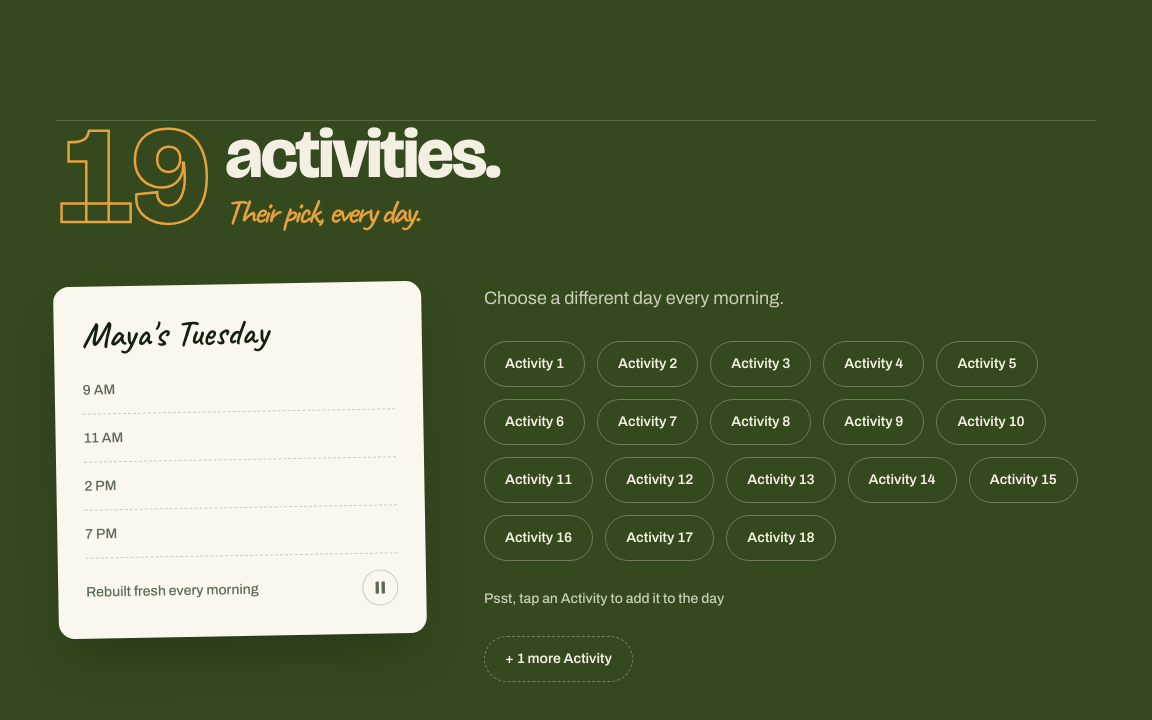
ActivitySchedule › pauses and resumes automatic schedule updates
Click the button named "Pause automatic schedule".
click(380, 587)  # box [362, 569, 398, 605]
Wait 3000 ms
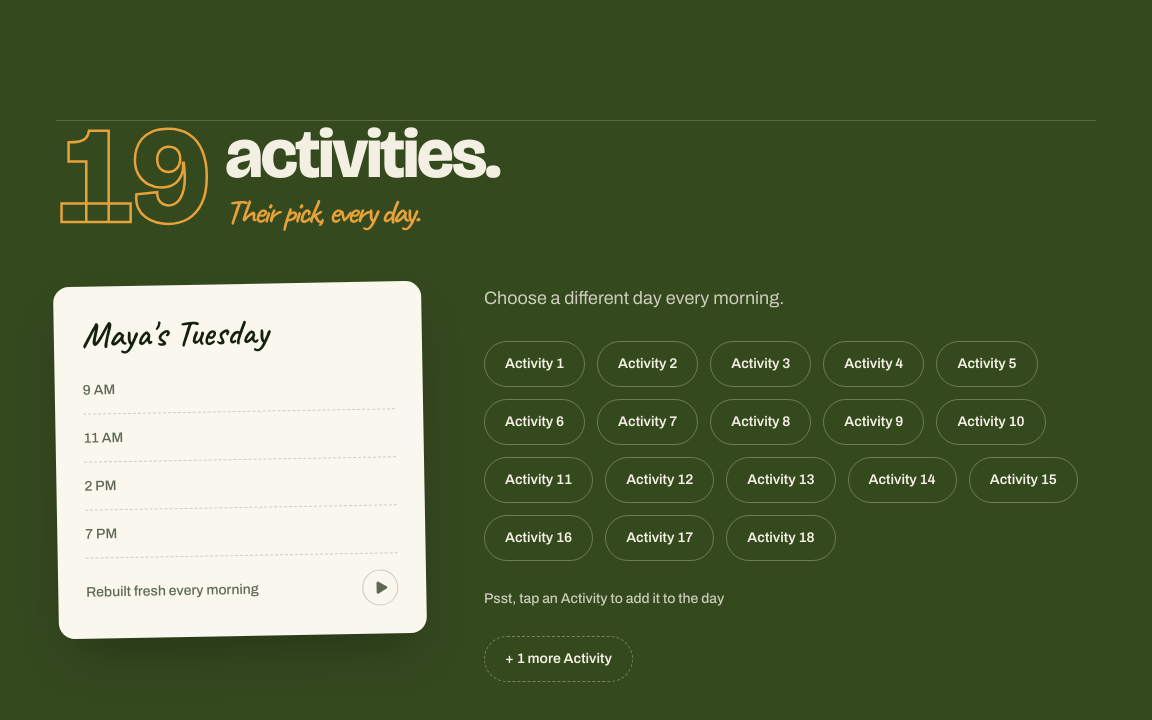
Expected: the list does not show "Activity 1", [82, 361, 398, 558]
Result: the button named "Resume automatic schedule" is pressed
Click the button named "Resume automatic schedule".
click(380, 587)  # box [362, 569, 398, 605]
Wait 1000 ms
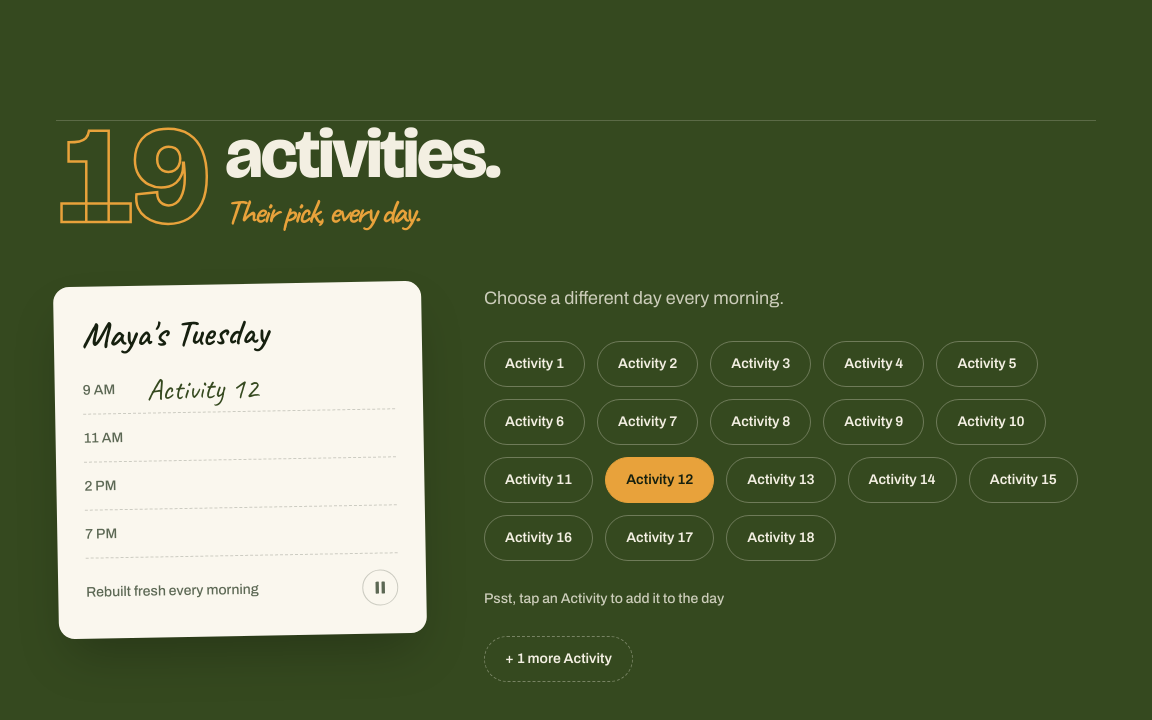
Result: the list reads "9 AM Activity 12 11 AM 2 PM 7 PM" at [146, 368, 258, 408]
